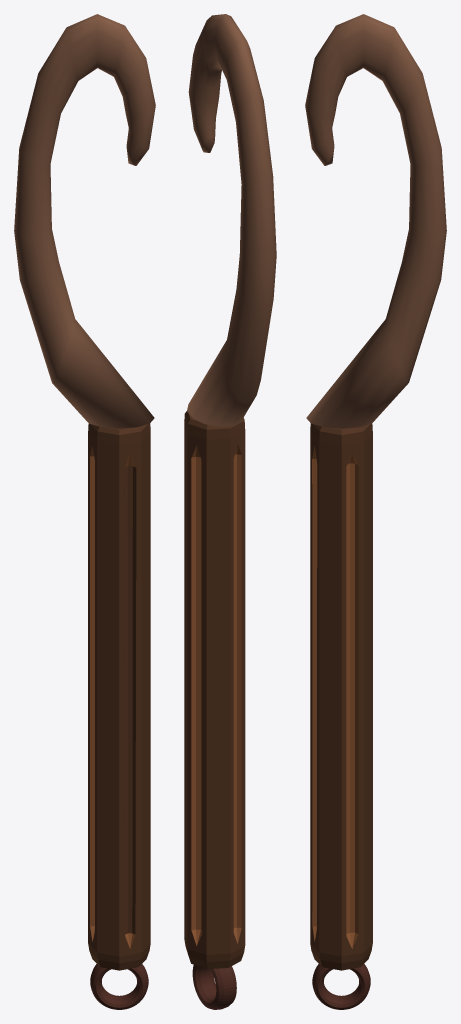
The model's file is Wand 581.glb.
3 renders of one model, left to right at view 1: azimuth 90°, elevation 25°; view 2: azimuth 210°, elevation 25°; view 3: azimuth 270°, elevation 25°, orthographic.
Parts seen in each view (by area): view 1: GeneratedWand; view 2: GeneratedWand; view 3: GeneratedWand.
Part boxes in pixels (left/top/right/bottom): GeneratedWand: left=14, top=14, right=155, bottom=1009; GeneratedWand: left=184, top=14, right=276, bottom=1009; GeneratedWand: left=305, top=14, right=446, bottom=1009.
Size of the model in its own units: 0.0289 by 0.5062 by 0.0654.
